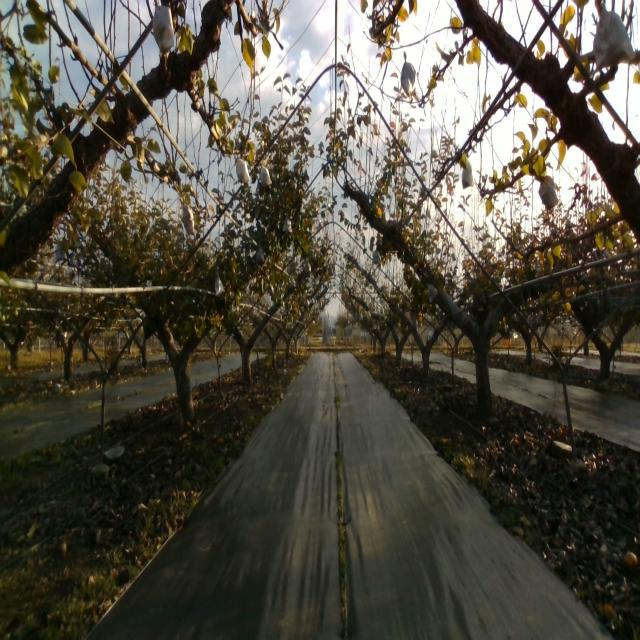pearbags: (592, 3, 634, 76), (153, 0, 175, 55), (538, 175, 560, 211), (401, 52, 416, 98), (180, 196, 195, 235), (236, 157, 250, 184), (461, 159, 473, 189), (260, 161, 272, 189), (214, 275, 225, 296), (427, 282, 438, 303)
